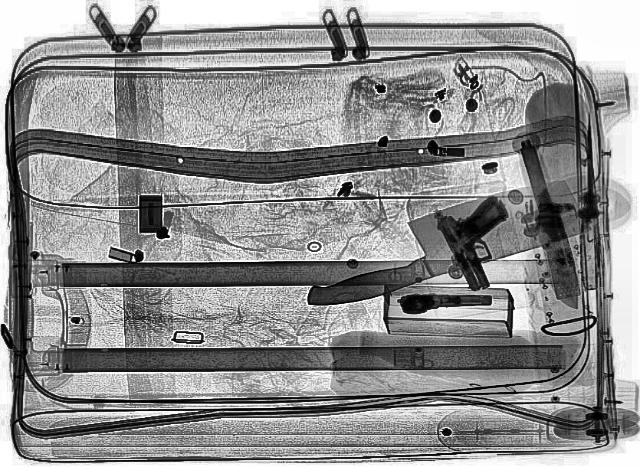Gun: (436, 194, 528, 290), (392, 281, 490, 321)
Knife: (278, 172, 596, 312), (514, 138, 582, 310)
